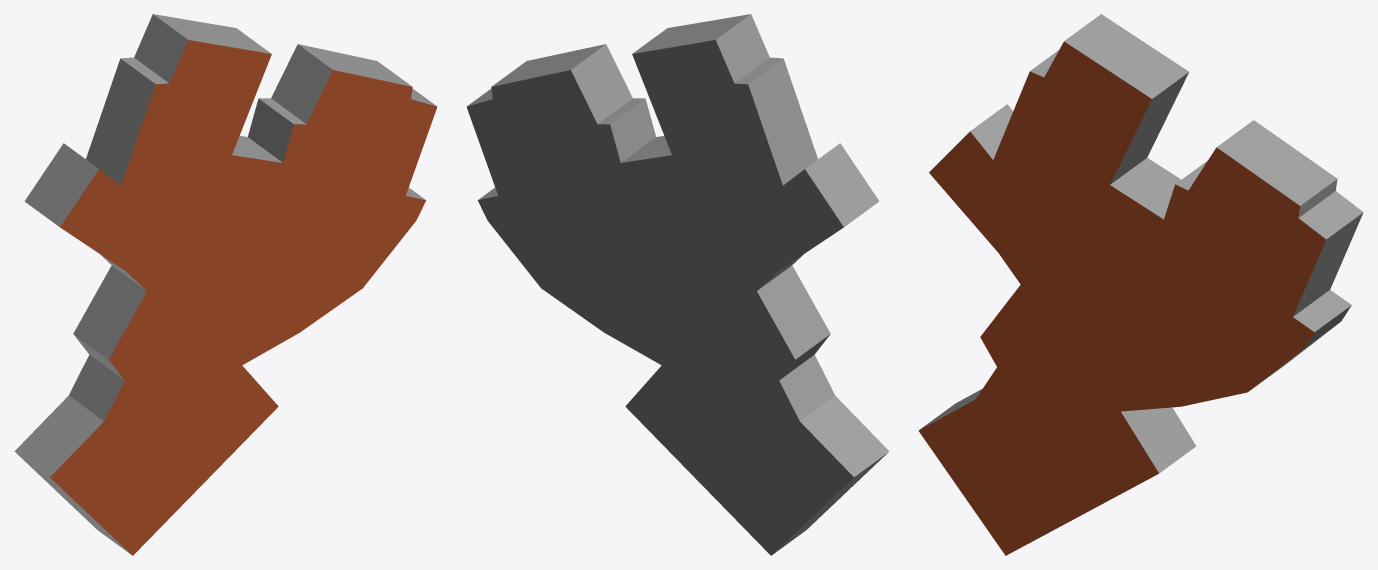
File: construction_2089_assumed_A_Casa_h6m.obj
The picture shows the model from 3 angles, left to right: view 1: azimuth 30°, elevation 25°; view 2: azimuth 150°, elevation 25°; view 3: azimuth 330°, elevation 25°; orthographic projection. The views are drawn at different scales.
Visible parts, largest first — view 1: construction_2089_assumed_A_Casa; view 2: construction_2089_assumed_A_Casa; view 3: construction_2089_assumed_A_Casa.
Part boxes in pixels (box(x1,y1,x2,y2)): construction_2089_assumed_A_Casa: box(14, 14, 437, 555); construction_2089_assumed_A_Casa: box(466, 14, 889, 555); construction_2089_assumed_A_Casa: box(918, 14, 1363, 555).
Size of the model in its own units: 37.9 by 46.95 by 6.
